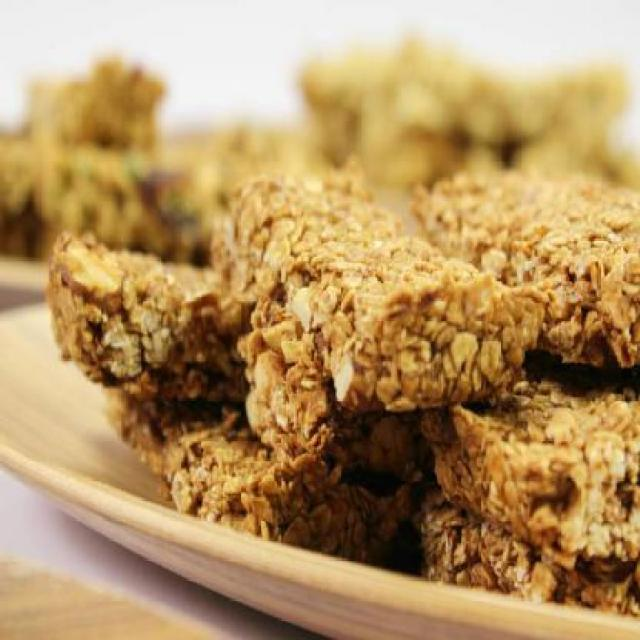Cereal bar packaged: (220, 162, 536, 430)
